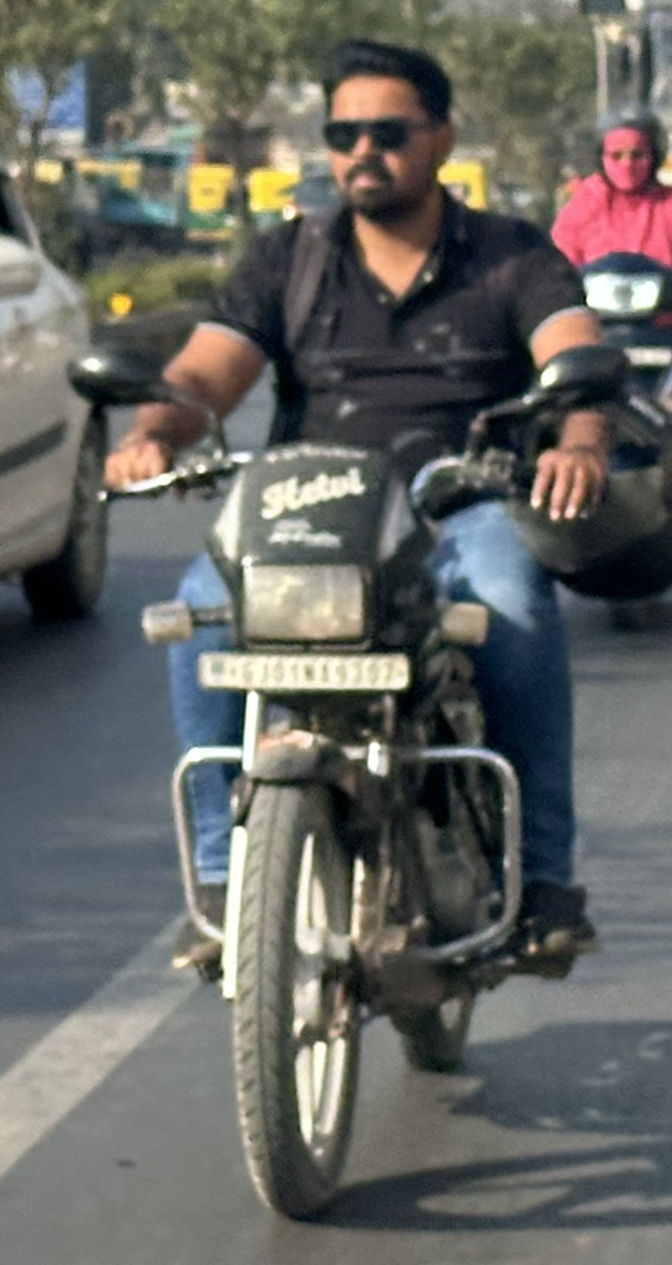BikeWithRider: (45, 26, 672, 1243)
NoHelmet: (291, 29, 478, 224)
